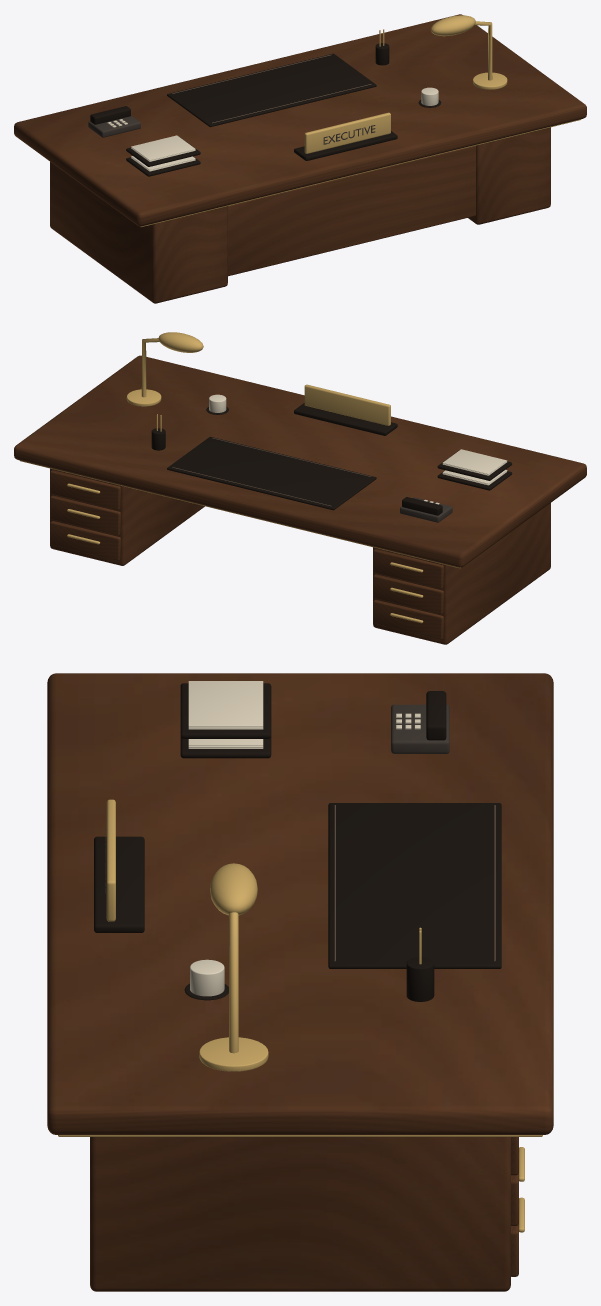
The model's file is executive-desk-v1.glb.
The picture shows the model from 3 angles, top to bottom: view 1: azimuth 30°, elevation 25°; view 2: azimuth 150°, elevation 25°; view 3: azimuth 270°, elevation 25°; orthographic projection. The views are drawn at different scales.
Parts seen in each view (by area): view 1: Broad walnut top; view 2: Broad walnut top; view 3: Broad walnut top.
Part boxes in pixels (box(x1,y1,x2,y2)): Broad walnut top: box(14, 14, 586, 303); Broad walnut top: box(14, 332, 586, 644); Broad walnut top: box(47, 673, 553, 1291).
Size of the model in its own units: 3.9 by 1.48 by 1.9.
Materials: 6 (2 with a texture image).
